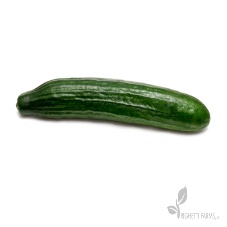cucumber: (16, 77, 210, 139)
